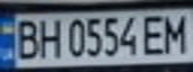0: (63, 16, 87, 58)
4: (118, 12, 142, 57)
5: (84, 15, 106, 57), (103, 14, 124, 57)
B: (9, 16, 42, 61)
E: (139, 12, 169, 56)
H: (36, 16, 63, 60)
M: (160, 11, 190, 54)
